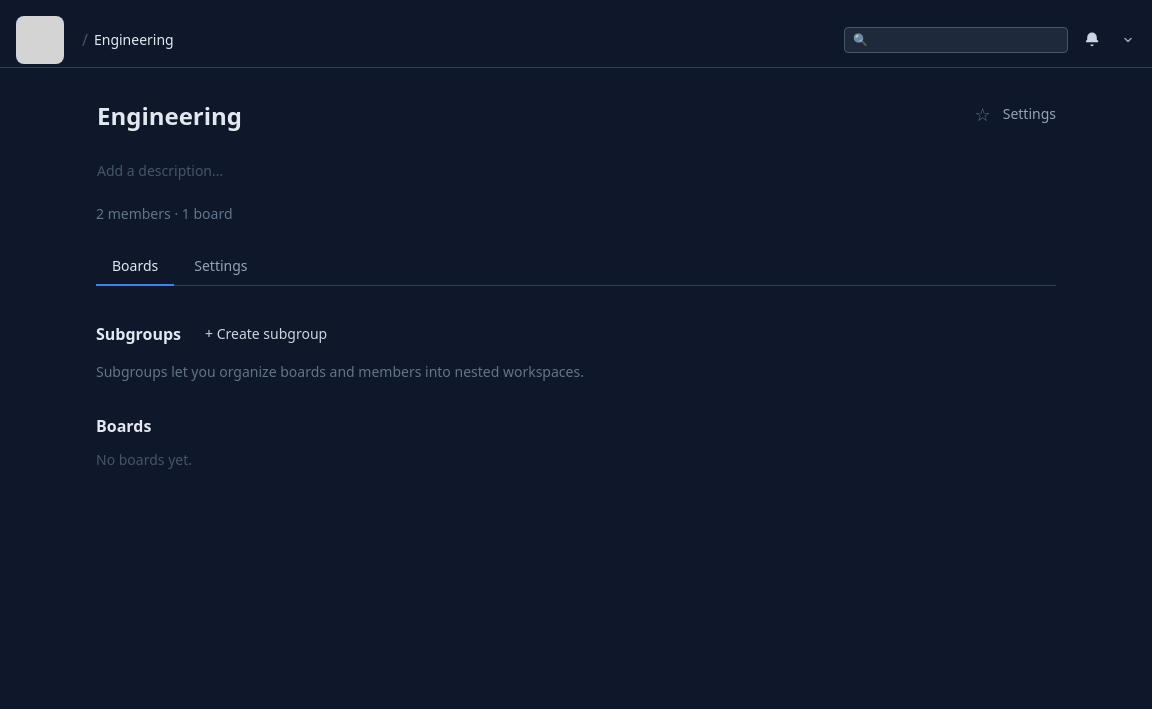
Scenario: GroupDetail › surfaces an error and keeps the member listed when removal fails (#1386)
Click the 1st button "Settings" at x=1029, y=114, box [1003, 104, 1056, 124]
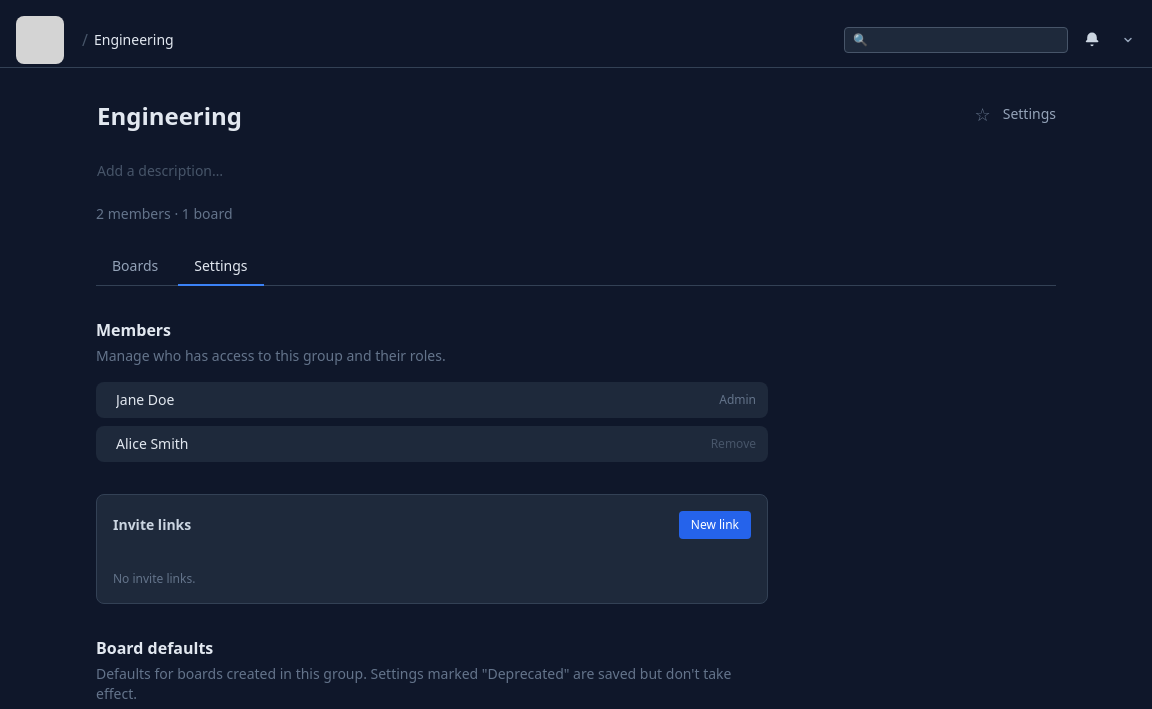
expect the text "Alice Smith" is shown: met, box [116, 434, 188, 454]
Click the button with aria-label "Remove Alice Smith from group" at x=733, y=444, box [711, 436, 756, 452]
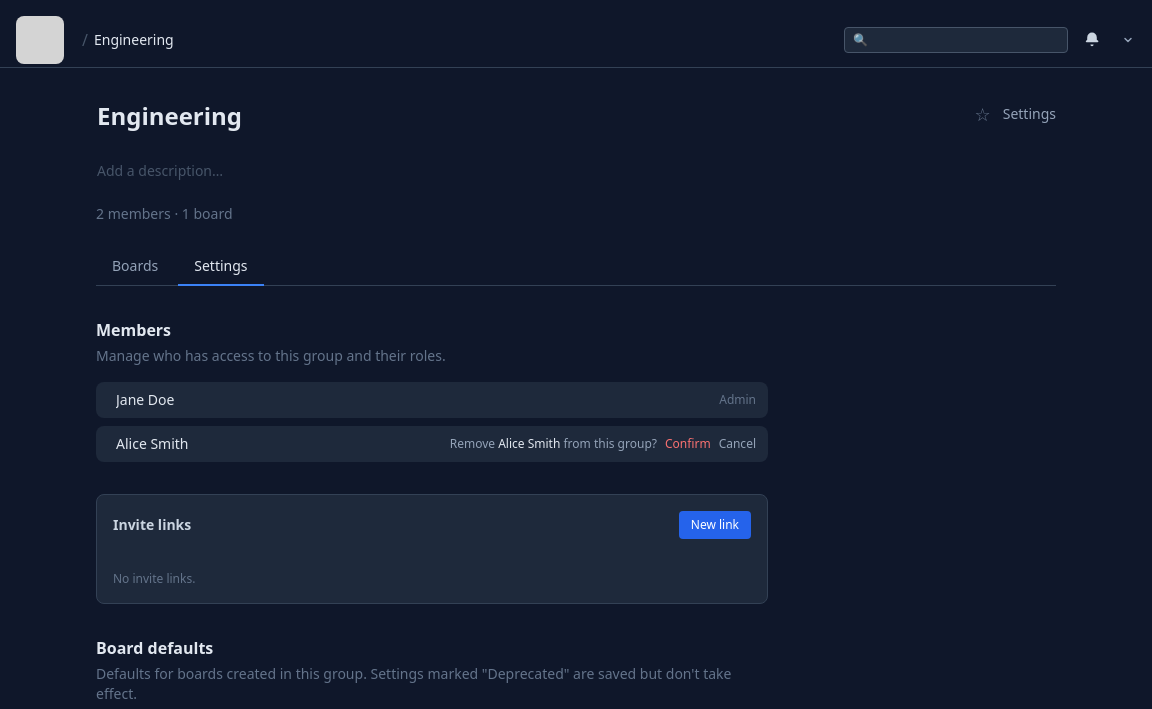
Click the button "Confirm" at x=688, y=444, box [665, 436, 711, 452]
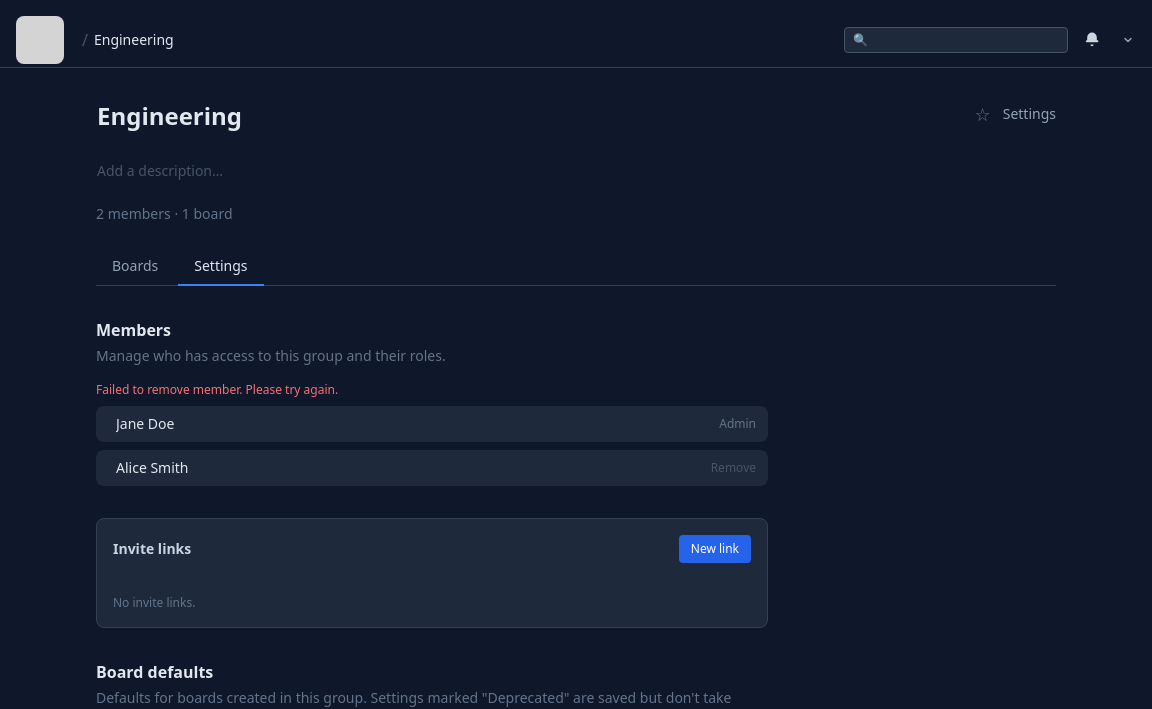
expect the text "Alice Smith" is shown: met, box [116, 458, 188, 478]
expect the message reads "Failed to remove member. Please try again.": met, box [96, 381, 338, 398]
